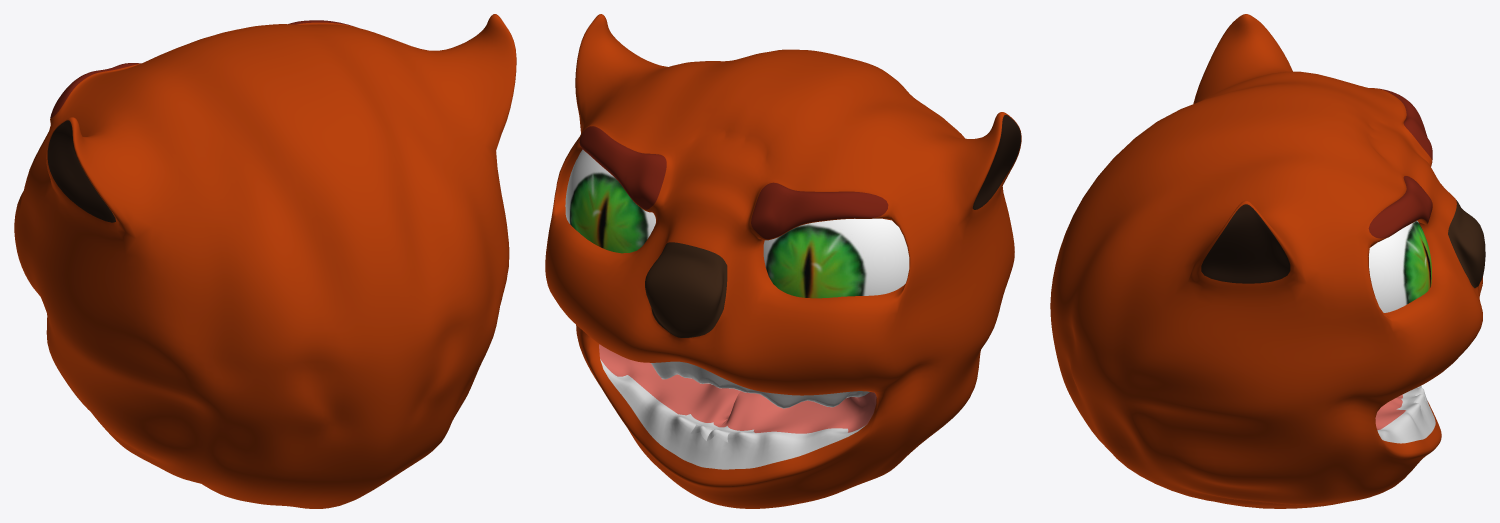
Rendered from monster_monster.fbx.
3 views of the same model, side by side, from view 1: azimuth 30°, elevation 25°; view 2: azimuth 150°, elevation 25°; view 3: azimuth 270°, elevation 25° (orthographic). The views are drawn at different scales.
Visible parts, largest first — view 1: Cube; view 2: Cube; view 3: Cube.
Part boxes in pixels (box(x1,y1,x2,y2)): Cube: box(14, 14, 516, 508); Cube: box(545, 14, 1021, 508); Cube: box(1050, 14, 1485, 508).
Size of the model in its own units: 4.83 by 4.55 by 4.57.
